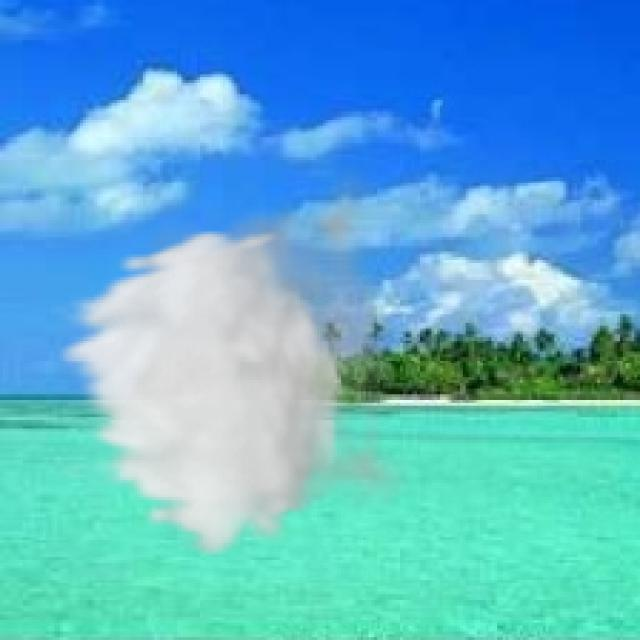smoke: (52, 157, 414, 560)
